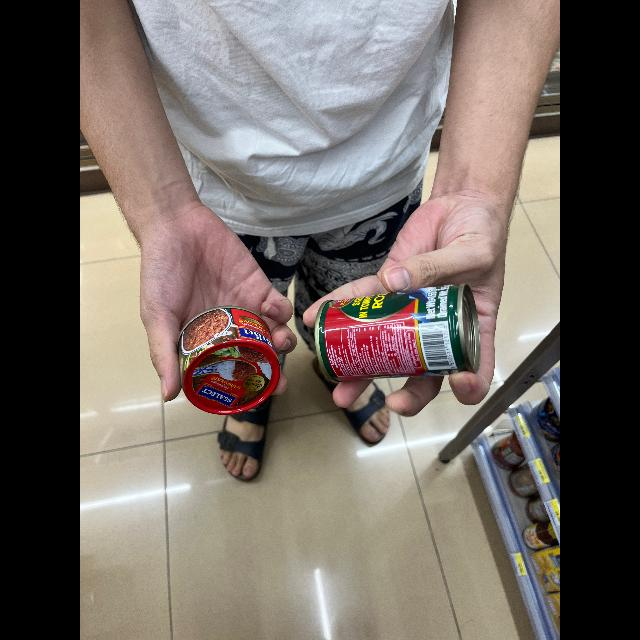can: (307, 287, 489, 371), (162, 312, 286, 414)
